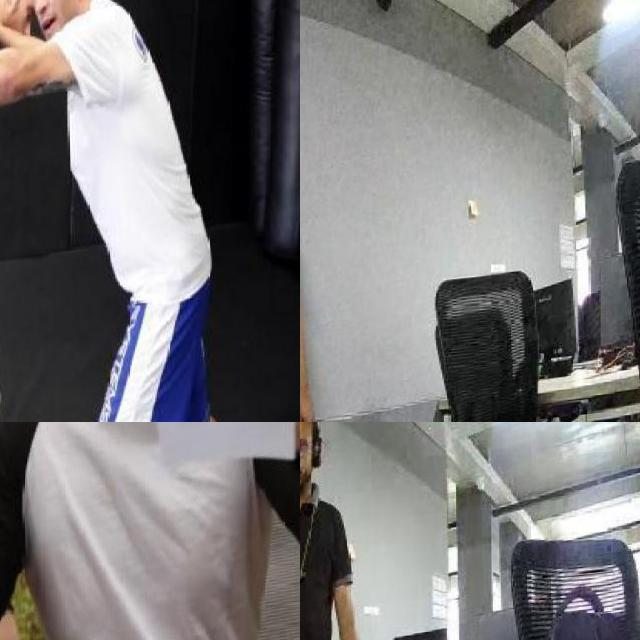-: (0, 422, 47, 607), (0, 62, 40, 155)
